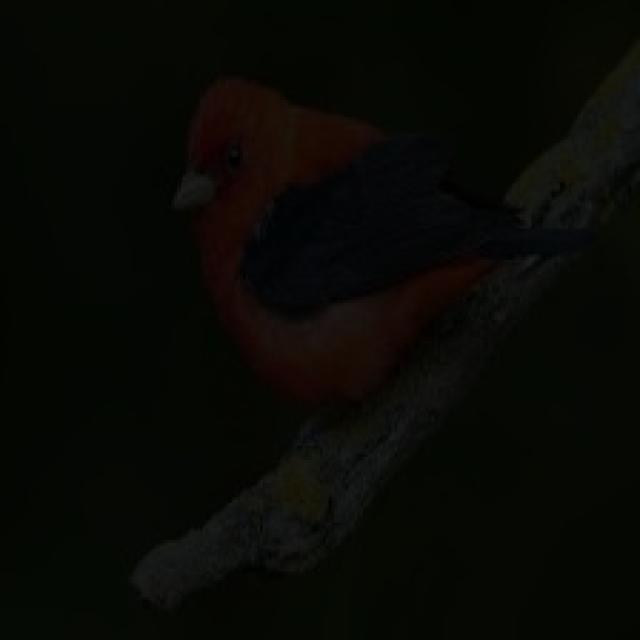bear: (123, 74, 571, 474)
